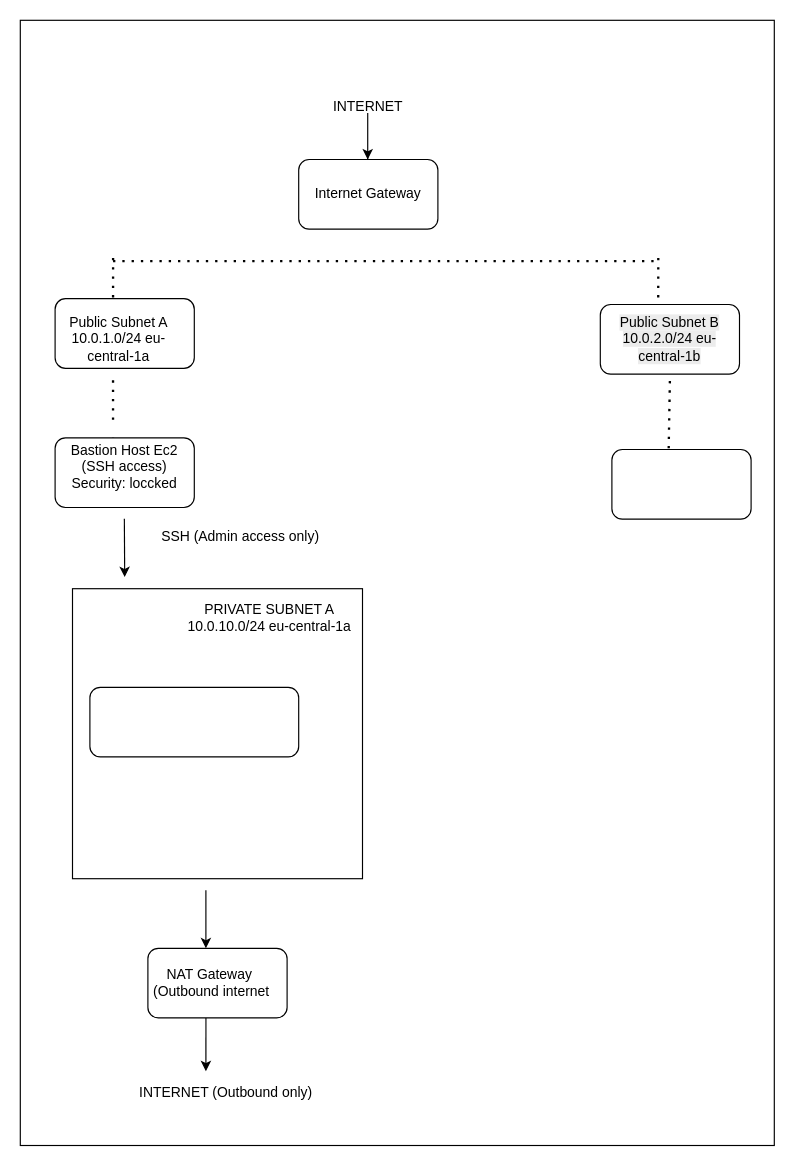
Some shapes in this 795 by 1166 pixel diagram are drawn without their labels. Here are the shapes that lost their labels. From the top down, the box of each, then its label:
(611, 448, 751, 519): Application Load Balancer (ALB) Public entry point
(89, 686, 299, 757): Private App Server (EC2) NGINX / Application NO PUBLIC IP
